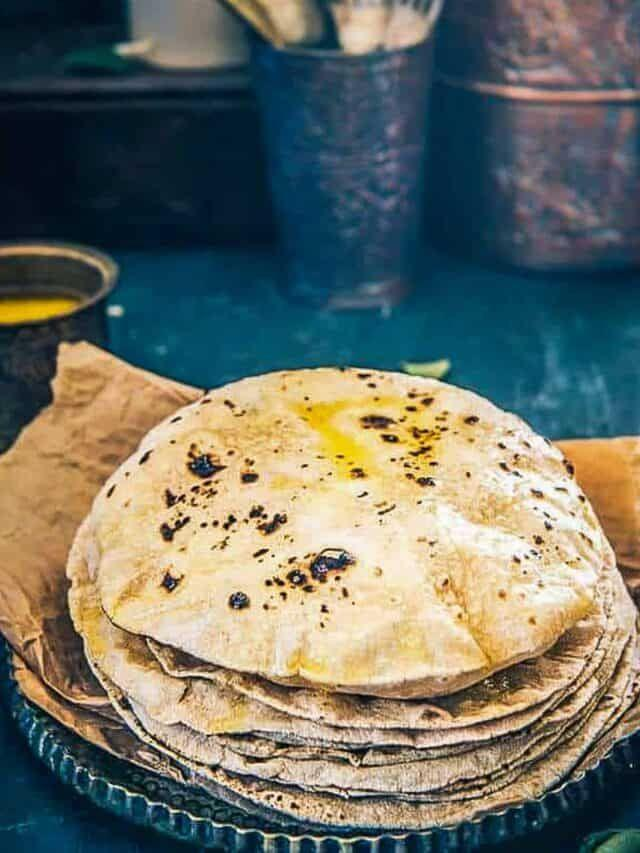roti phulka: (61, 358, 640, 835)
